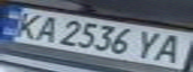2: (51, 17, 84, 48)
3: (93, 22, 118, 55)
5: (75, 20, 100, 52)
6: (112, 25, 139, 56)
A: (151, 33, 193, 64), (27, 14, 63, 43)
K: (6, 9, 48, 39)
Y: (133, 28, 169, 61)
